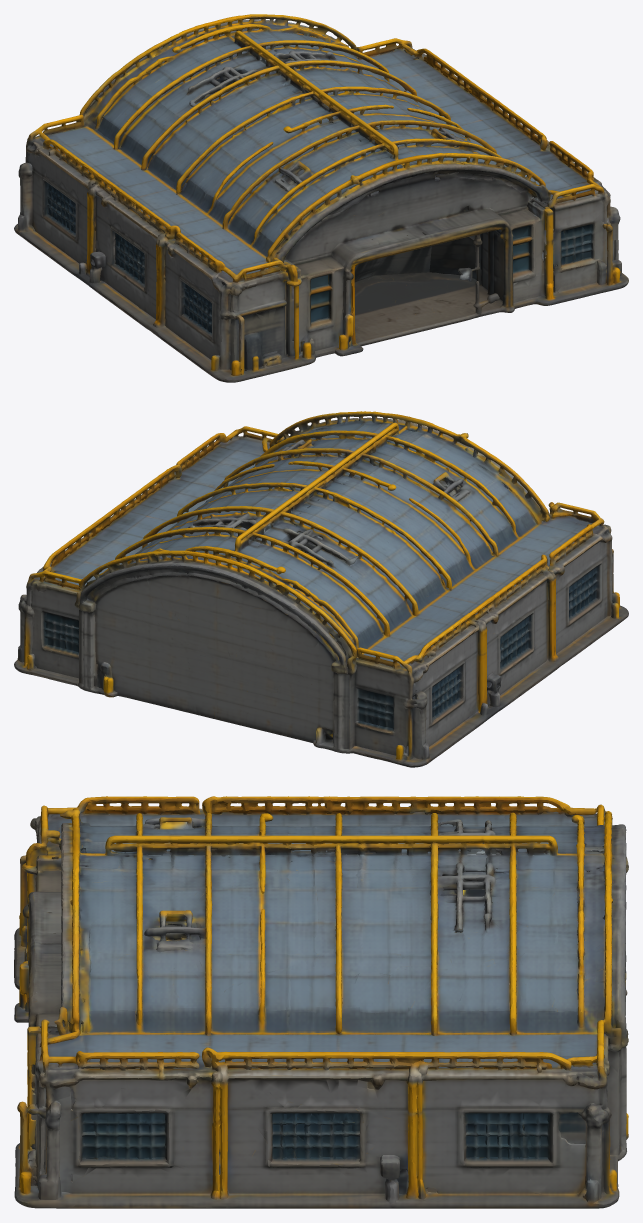
File: hangar.glb
The picture shows the model from 3 angles, top to bottom: view 1: azimuth 30°, elevation 25°; view 2: azimuth 150°, elevation 25°; view 3: azimuth 270°, elevation 25°; orthographic projection. The views are drawn at different scales.
Parts seen in each view (by area): view 1: world; view 2: world; view 3: world.
Part boxes in pixels (box(x1,y1,x2,y2)): world: box(14, 14, 628, 382); world: box(14, 411, 628, 767); world: box(14, 796, 628, 1208).
Size of the model in its own units: 25 by 9.62 by 23.04.
1 material, 1 textured.
